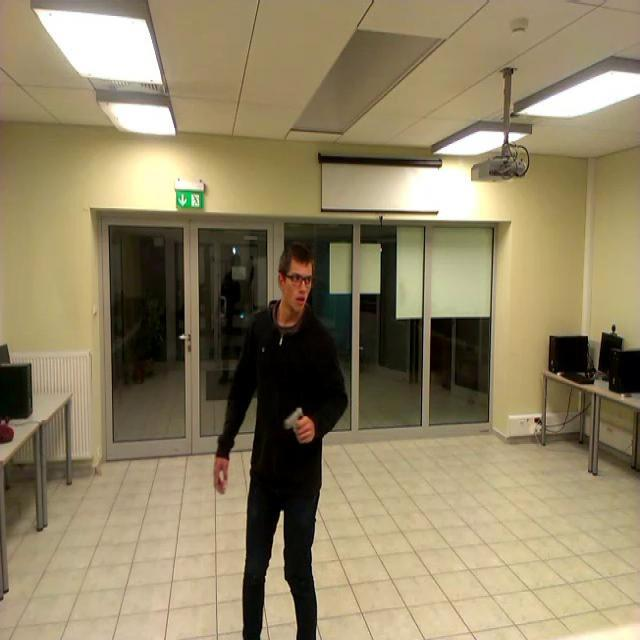weapon: (282, 408, 308, 444)
